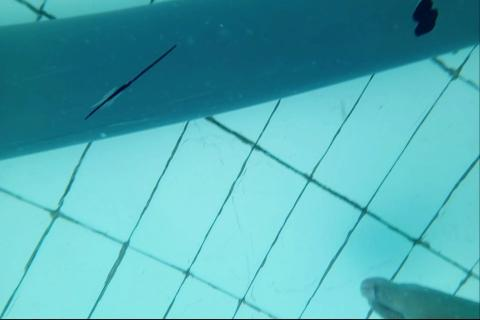kebocoran: (411, 0, 441, 39)
keretakan: (83, 40, 178, 121)
